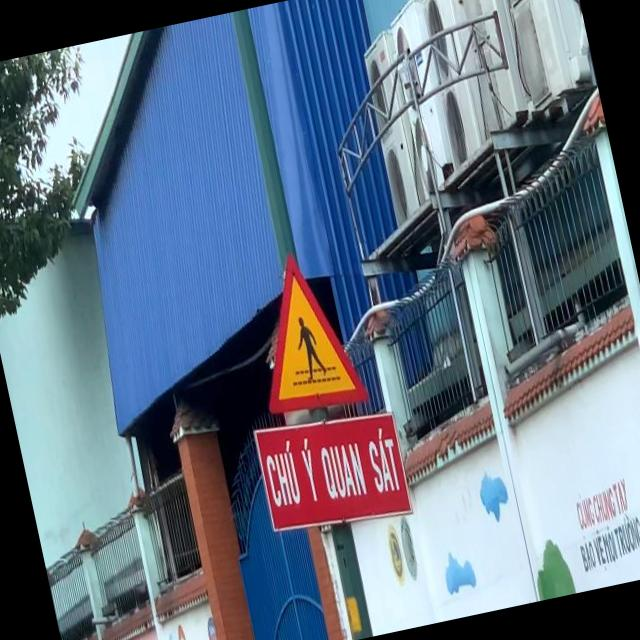W-224: (240, 242, 366, 419)
